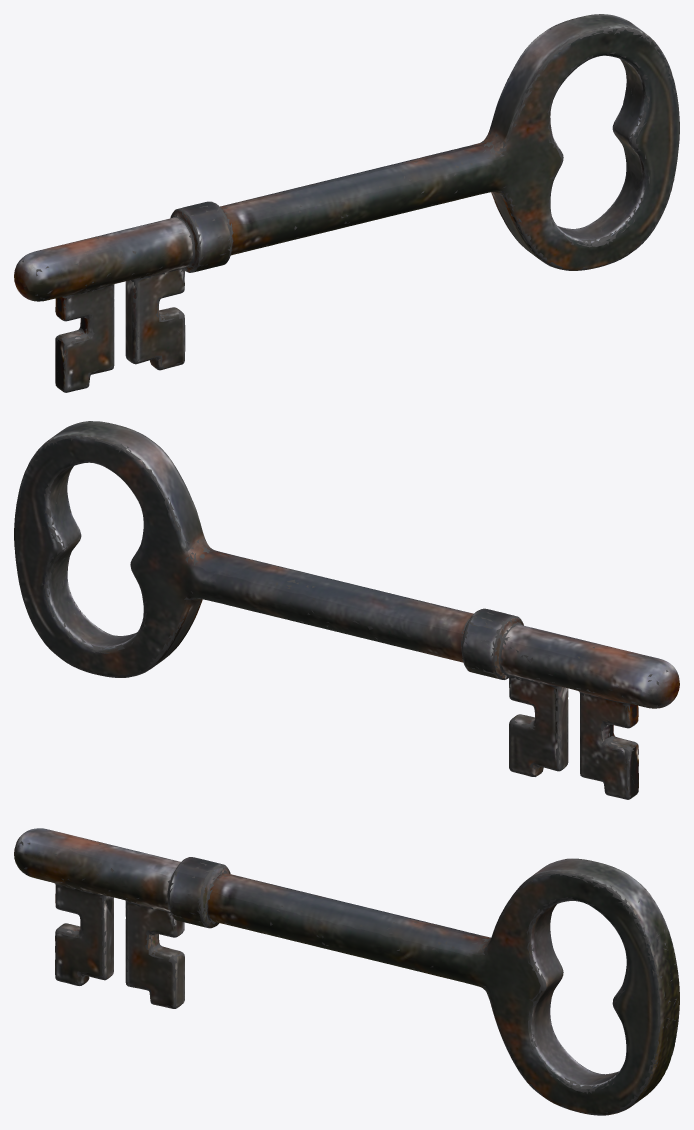
File: key.glb
3 renders of one model, top to bottom at view 1: azimuth 30°, elevation 25°; view 2: azimuth 150°, elevation 25°; view 3: azimuth 330°, elevation 25°, orthographic.
Visible parts, largest first — view 1: geometry_0; view 2: geometry_0; view 3: geometry_0.
Boxes of the visible parts, x1,y1,x2,y2 form: geometry_0: (14,14,679,392); geometry_0: (14,421,679,799); geometry_0: (14,828,679,1115).
Bounding box in the file's own units: 0.12 × 0.0419 × 0.00987.
Materials: 1 (1 with a texture image).
